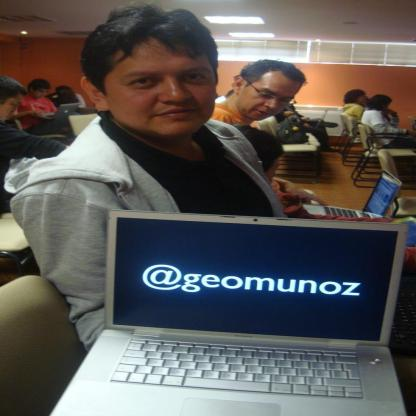board: (44, 209, 414, 416), (302, 171, 403, 219), (46, 104, 82, 119)
